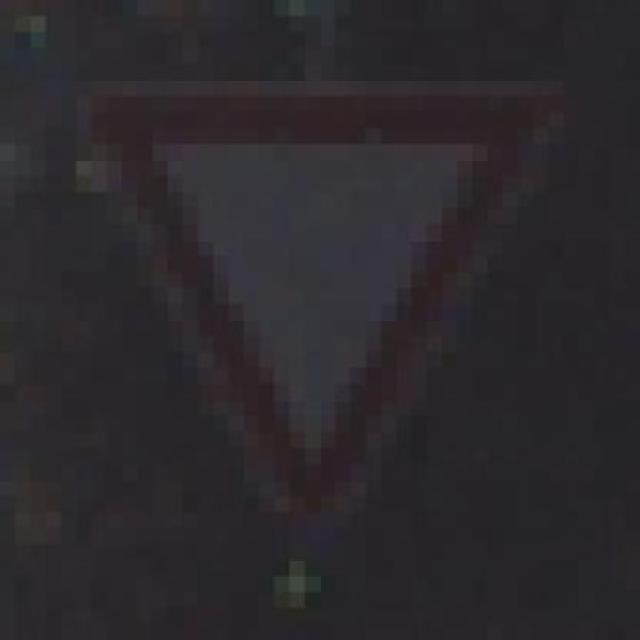Give Way: (46, 64, 594, 591)
